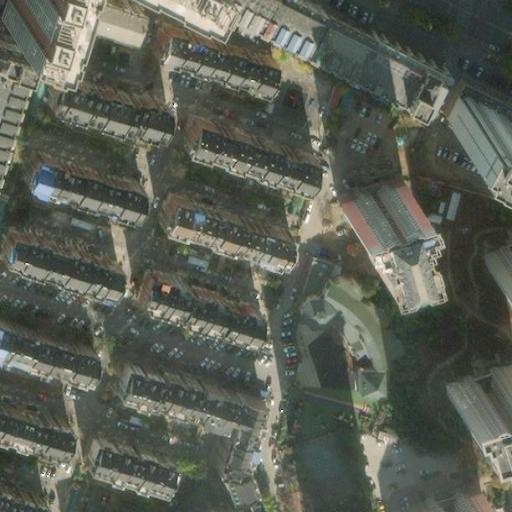building: (174, 0, 421, 110), (128, 261, 256, 341), (108, 339, 239, 415), (146, 183, 282, 254), (175, 110, 307, 177), (0, 214, 120, 283), (35, 60, 159, 124), (11, 143, 132, 207), (430, 363, 509, 444), (326, 168, 404, 249), (171, 43, 273, 103), (77, 426, 174, 488), (0, 306, 88, 373), (212, 380, 260, 488), (433, 91, 504, 151), (0, 398, 70, 454), (86, 0, 150, 46), (396, 67, 442, 128), (478, 239, 512, 305), (293, 249, 334, 300), (404, 486, 483, 512), (0, 471, 47, 512), (180, 491, 252, 512)
